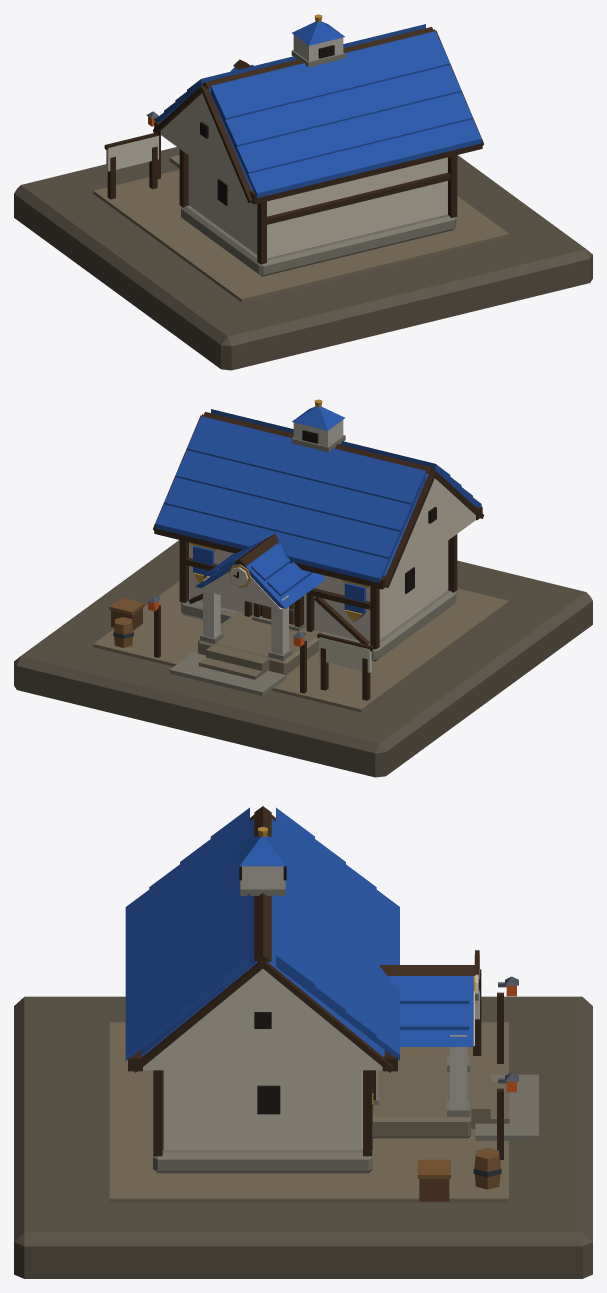
File: 城镇大厅_1星.glb
3 views of the same model, one above another, from view 1: azimuth 30°, elevation 25°; view 2: azimuth 150°, elevation 25°; view 3: azimuth 270°, elevation 25° (orthographic). The views are drawn at different scales.
Visible parts, largest first — view 1: 城镇大厅_1星; view 2: 城镇大厅_1星; view 3: 城镇大厅_1星.
Part boxes in pixels (box(x1,y1,x2,y2)): 城镇大厅_1星: box(14, 14, 592, 370); 城镇大厅_1星: box(14, 399, 592, 777); 城镇大厅_1星: box(14, 806, 592, 1278).
Size of the model in its own units: 1 by 0.624 by 1.
